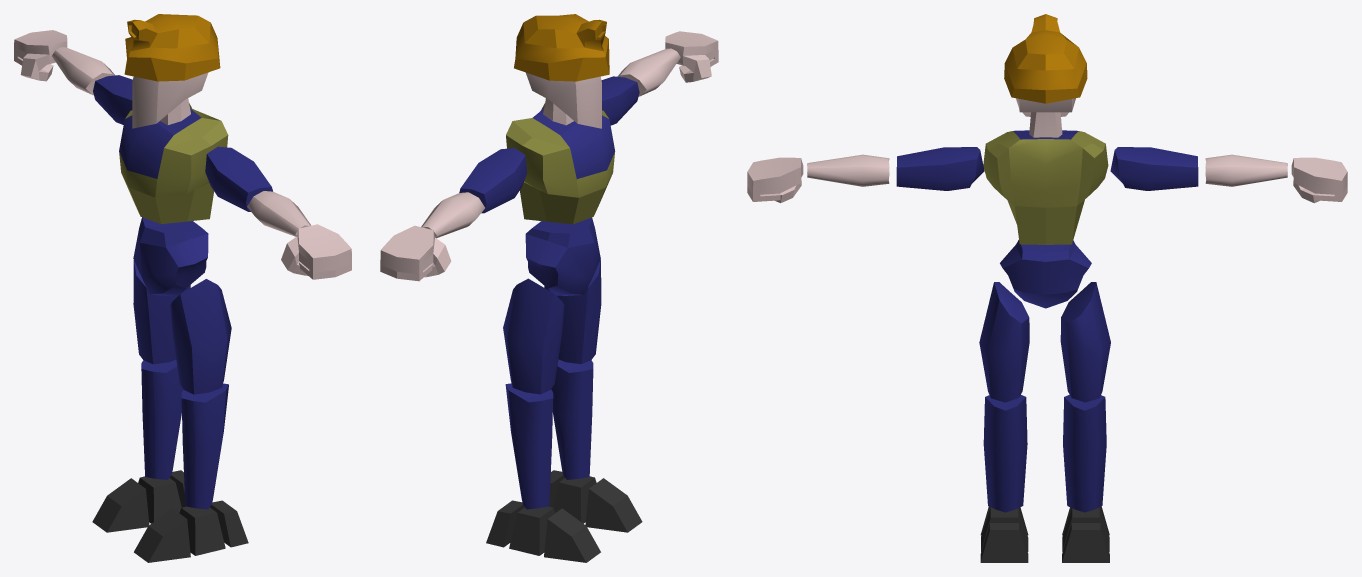
The model's file is Hero.fbx.
3 views of the same model, side by side, from view 1: azimuth 30°, elevation 25°; view 2: azimuth 150°, elevation 25°; view 3: azimuth 270°, elevation 25° (orthographic).
Visible parts, largest first — view 1: Chest, Ankle (×2), Thigh (×2), Head, Hand (×2), Waist, pCube2 (×2), Shoulder (×2), ForArm (×2), pCube1 (×2), pCube3; view 2: Chest, Ankle (×2), Thigh (×2), Head, Hand (×2), Waist, pCube2 (×2), Shoulder (×2), ForArm (×2), pCube1 (×2), pCube3; view 3: Chest, Ankle (×2), Thigh (×2), Shoulder (×2), Head, Hand (×2), Waist, ForArm (×2), pCube3 (×2).
Part boxes in pixels (x1,y1,x2,y2): Chest: (119, 98, 228, 224); Ankle (×2): (141, 359, 228, 509); Thigh (×2): (133, 260, 231, 394); Head: (124, 14, 220, 128); Hand (×2): (14, 30, 351, 279); Waist: (133, 217, 208, 295); pCube2 (×2): (92, 478, 190, 562); Shoulder (×2): (93, 75, 272, 211); ForArm (×2): (52, 47, 310, 236); pCube1 (×2): (138, 476, 225, 555); pCube3: (210, 500, 248, 547); Chest: (506, 98, 615, 224); Ankle (×2): (505, 359, 593, 509); Thigh (×2): (503, 259, 601, 394); Head: (514, 14, 609, 128); Hand (×2): (380, 31, 718, 281); Waist: (525, 217, 600, 295); pCube2 (×2): (544, 478, 642, 562); Shoulder (×2): (459, 76, 639, 213); ForArm (×2): (421, 48, 680, 238); pCube1 (×2): (509, 476, 596, 555); pCube3: (486, 500, 524, 547); Chest: (983, 112, 1108, 244); Ankle (×2): (983, 395, 1106, 512); Thigh (×2): (979, 282, 1110, 402); Shoulder (×2): (896, 147, 1198, 190); Head: (1004, 14, 1087, 116); Hand (×2): (747, 157, 1347, 203); Waist: (1000, 240, 1091, 308); ForArm (×2): (807, 154, 1287, 186); pCube3 (×2): (980, 523, 1109, 562).
Bounding box in the file's own units: 0.4184 × 2.12 × 2.26.
